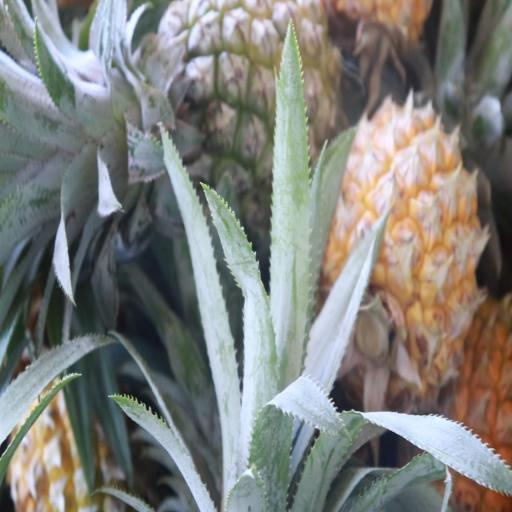Pineapple - v8 v1: (327, 101, 484, 384)
